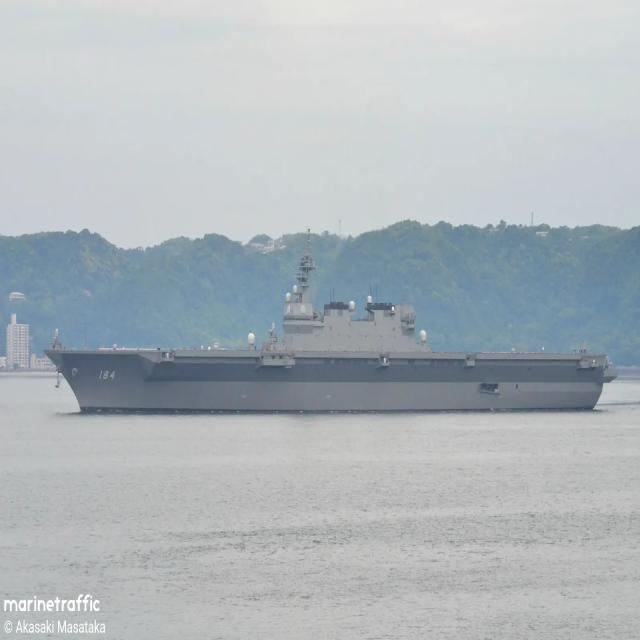Military: (45, 234, 614, 412)
